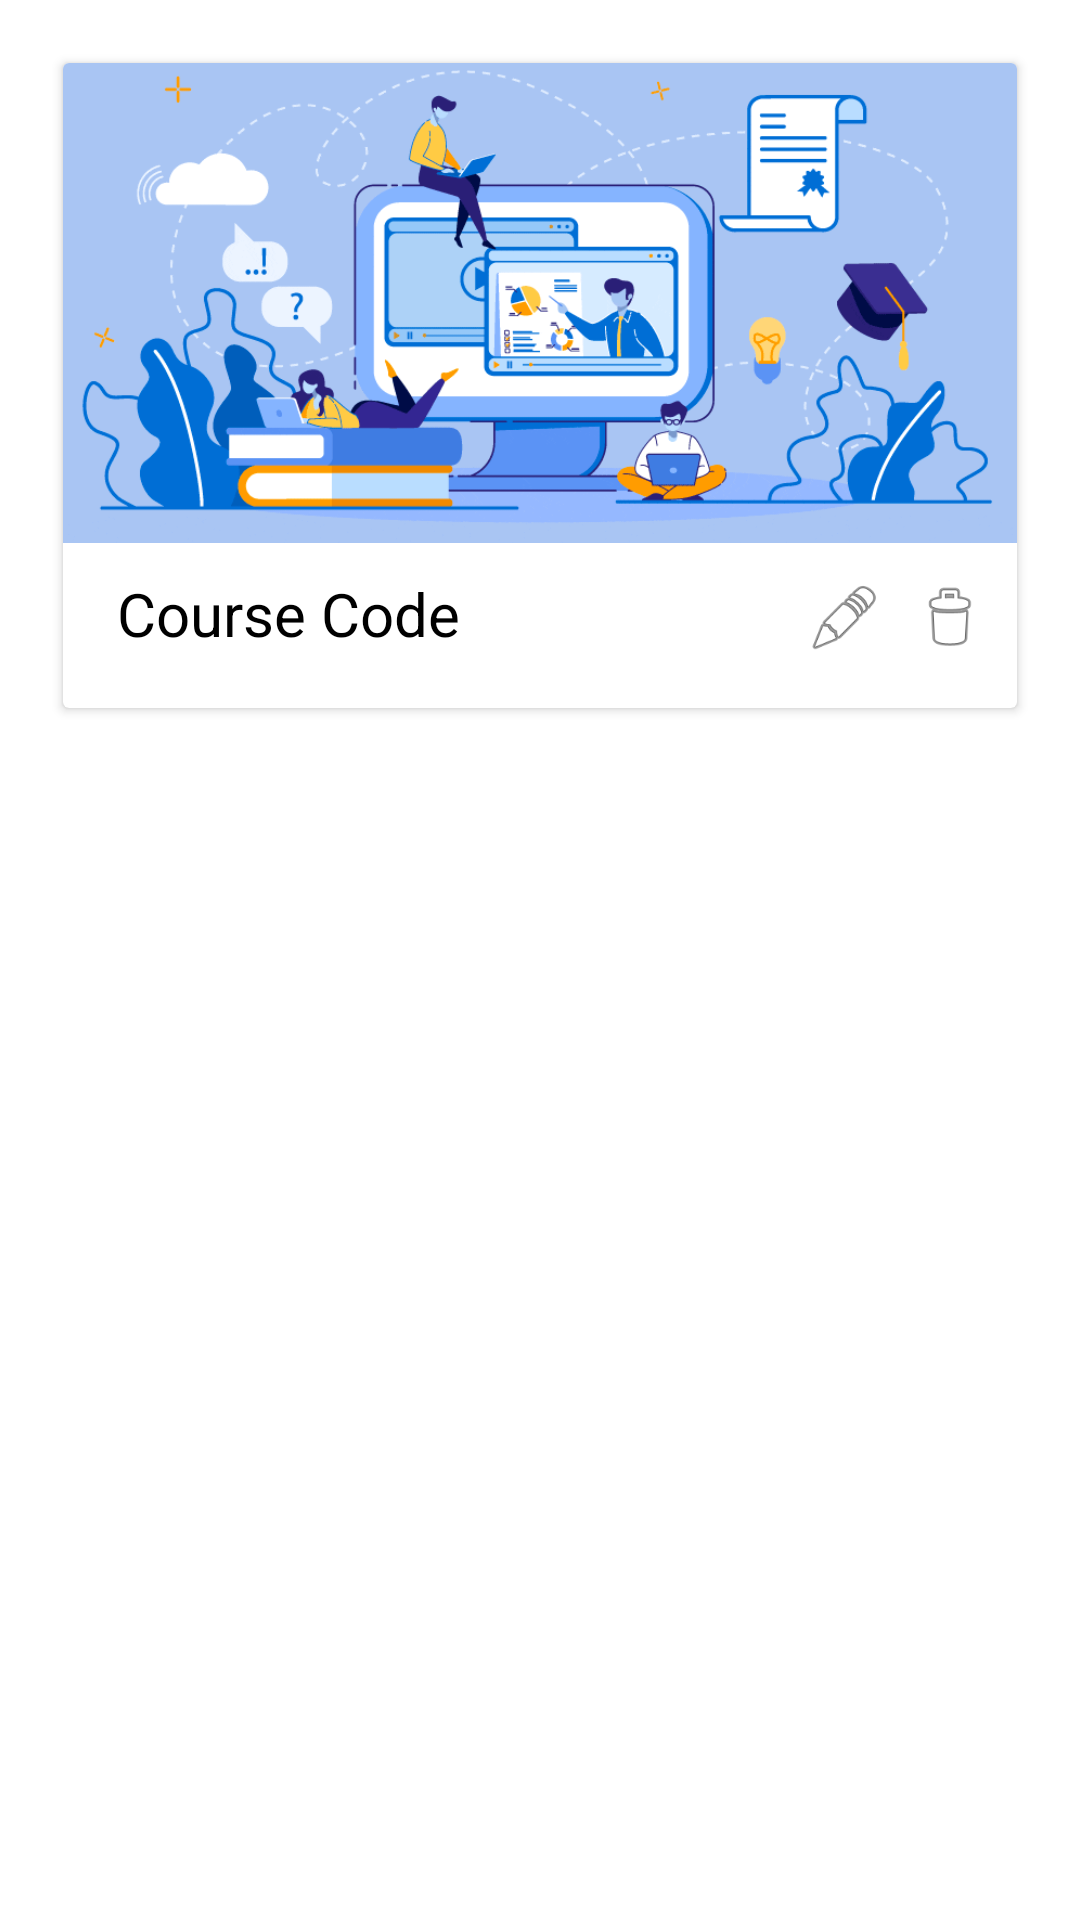

Icons on this 1080w x 1920h Android screen, each with the point to tap as point (x, y):
delete course button: point (950, 616)
update course button: point (844, 617)
